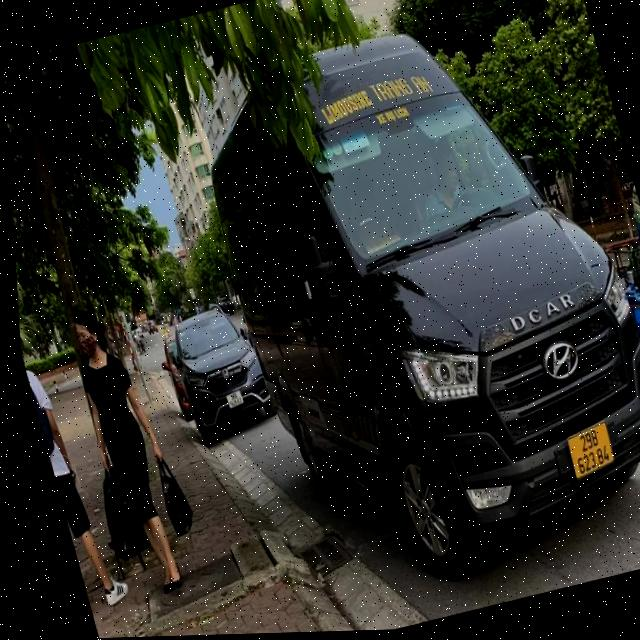car: (235, 34, 640, 605), (148, 295, 285, 448)
motorcycle: (627, 288, 640, 405)
plate: (557, 416, 624, 485), (219, 384, 250, 412)
